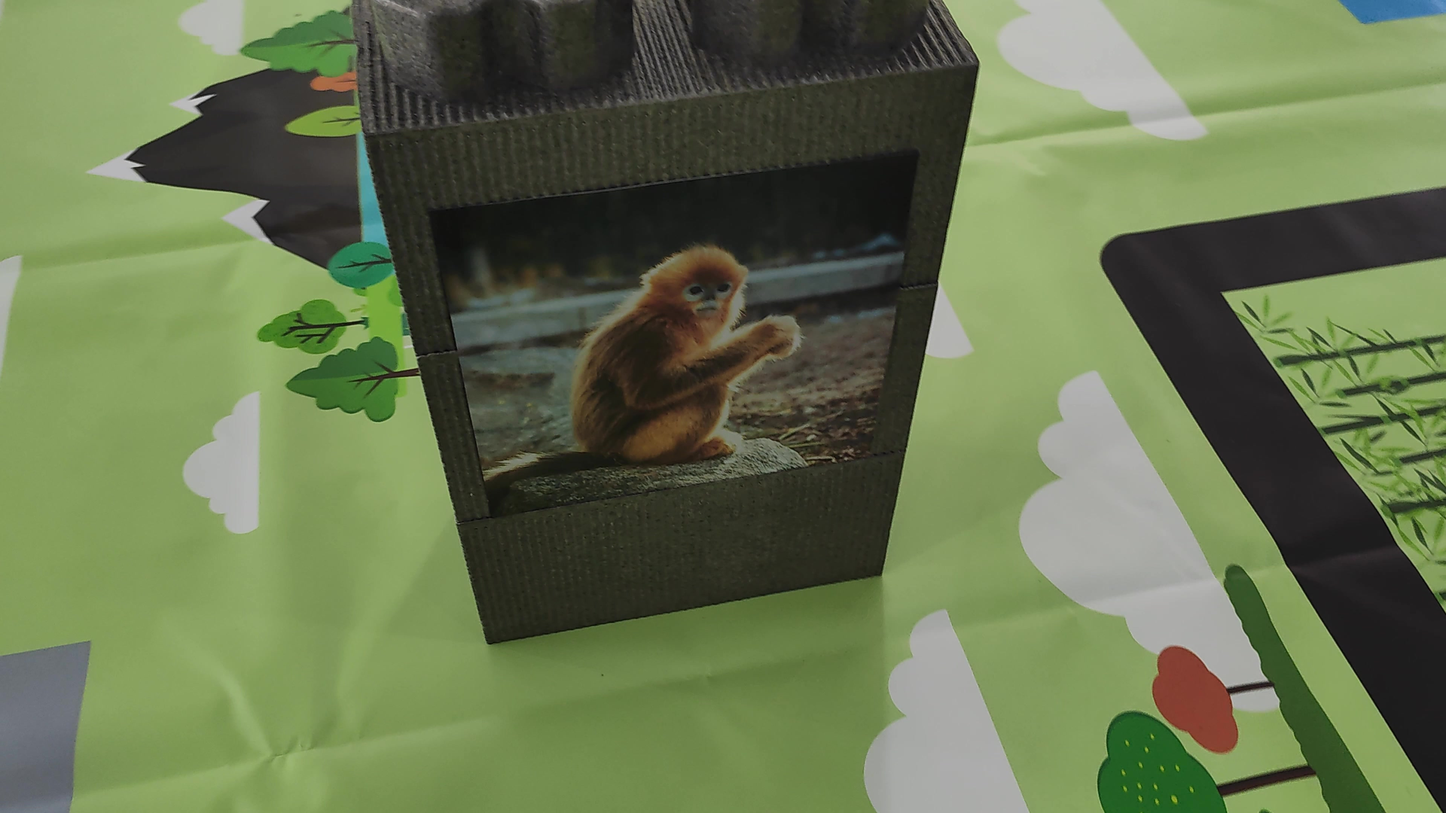monkey: (521, 195, 834, 477)
